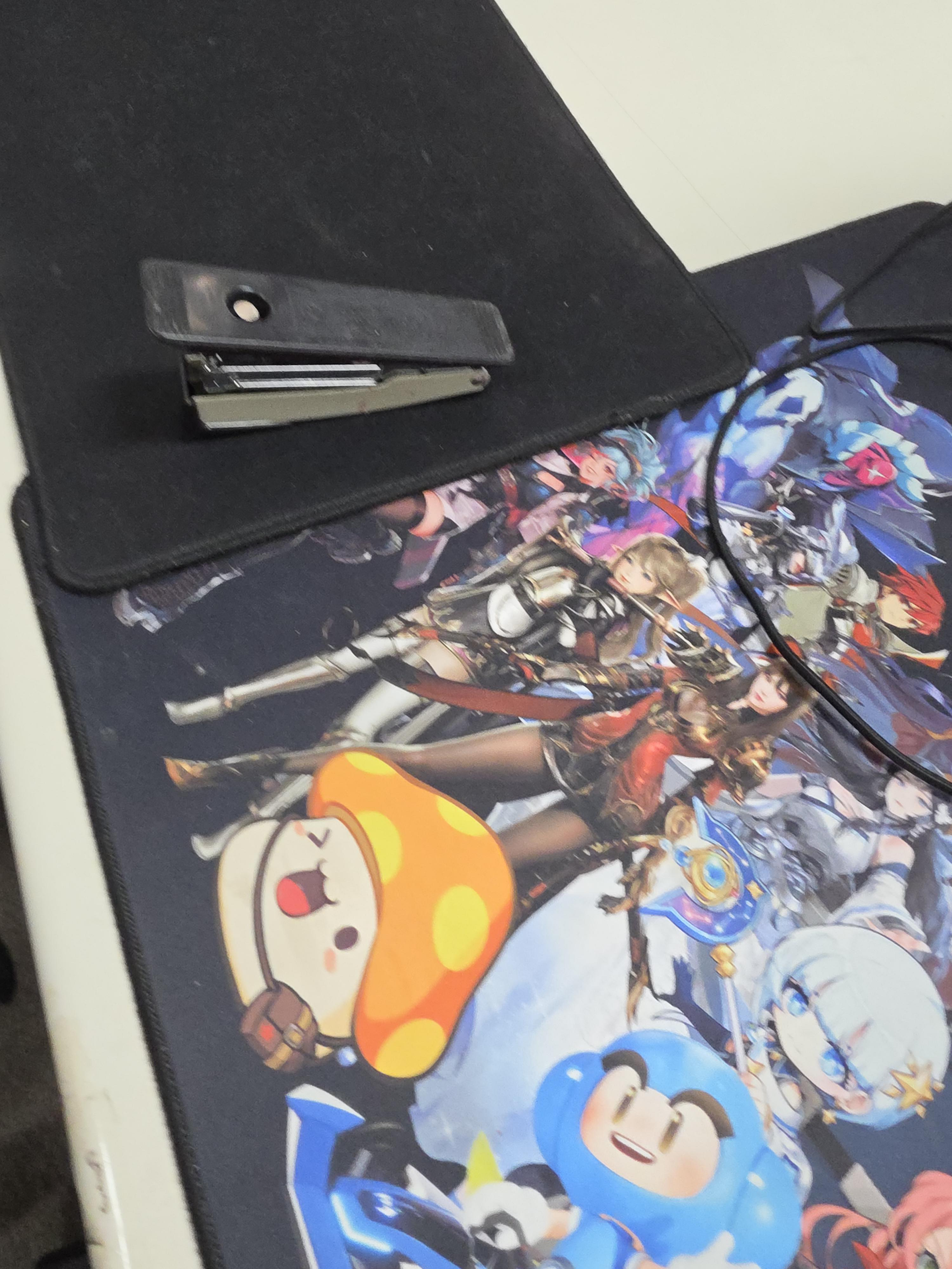stapler: (139, 257, 517, 431)
